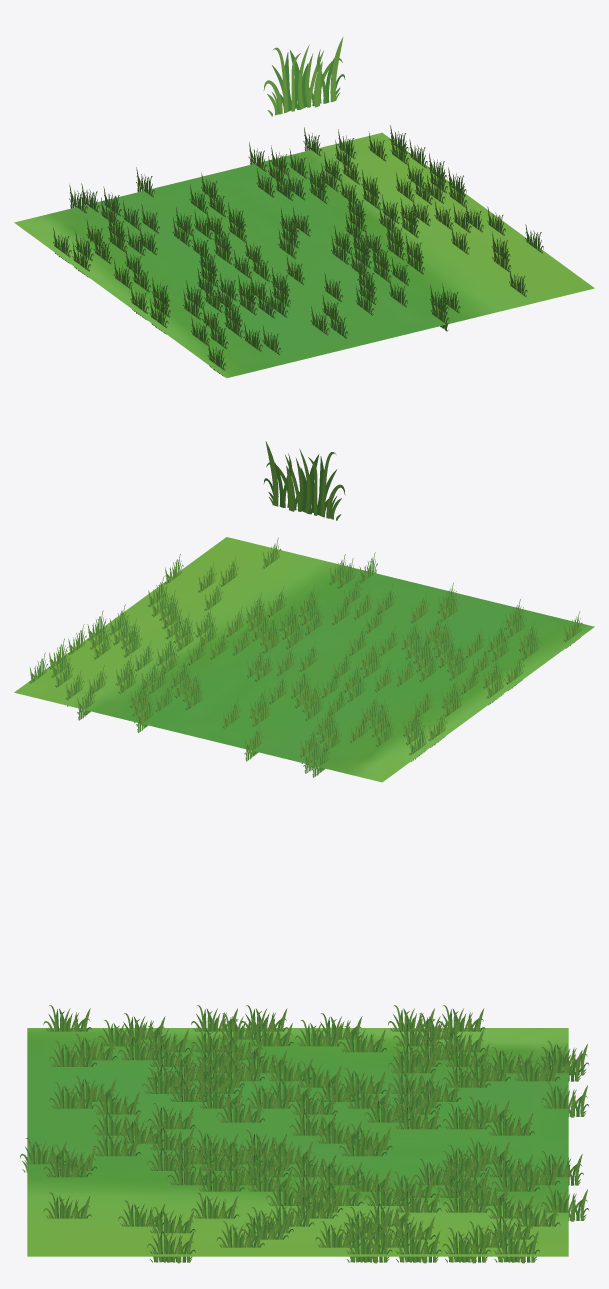
File: grass.fbx
3 renders of one model, top to bottom at view 1: azimuth 30°, elevation 25°; view 2: azimuth 150°, elevation 25°; view 3: azimuth 270°, elevation 25°, orthographic. The views are drawn at different scales.
Parts seen in each view (by area): view 1: Plane.002, Plane, Plane.001; view 2: Plane.002, Plane, Plane.001; view 3: Plane.002, Plane.
Boxes of the visible parts, x1,y1,x2,y2 form: Plane.002: (14,132,594,377); Plane: (28,125,586,376); Plane.001: (263,37,345,116); Plane.002: (14,537,594,782); Plane: (20,537,582,778); Plane.001: (263,441,345,520); Plane.002: (27,1028,568,1256); Plane: (20,1005,589,1263).
Size of the model in its own units: 200 by 127 by 215.
